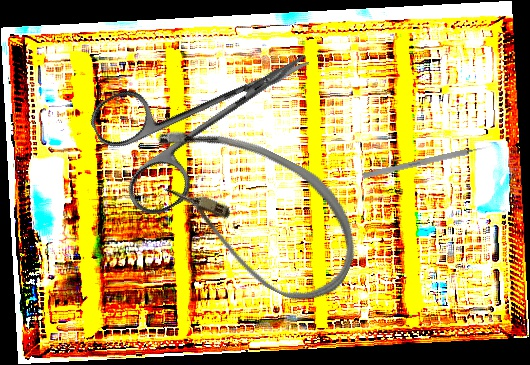Cannula: (120, 102, 381, 318)
Hook Surgical: (362, 143, 493, 179)
Iris Scissors: (84, 7, 339, 223)
